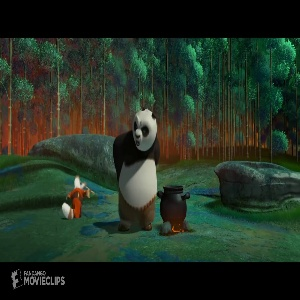po: (111, 106, 163, 233)
shifu: (60, 174, 94, 219)
